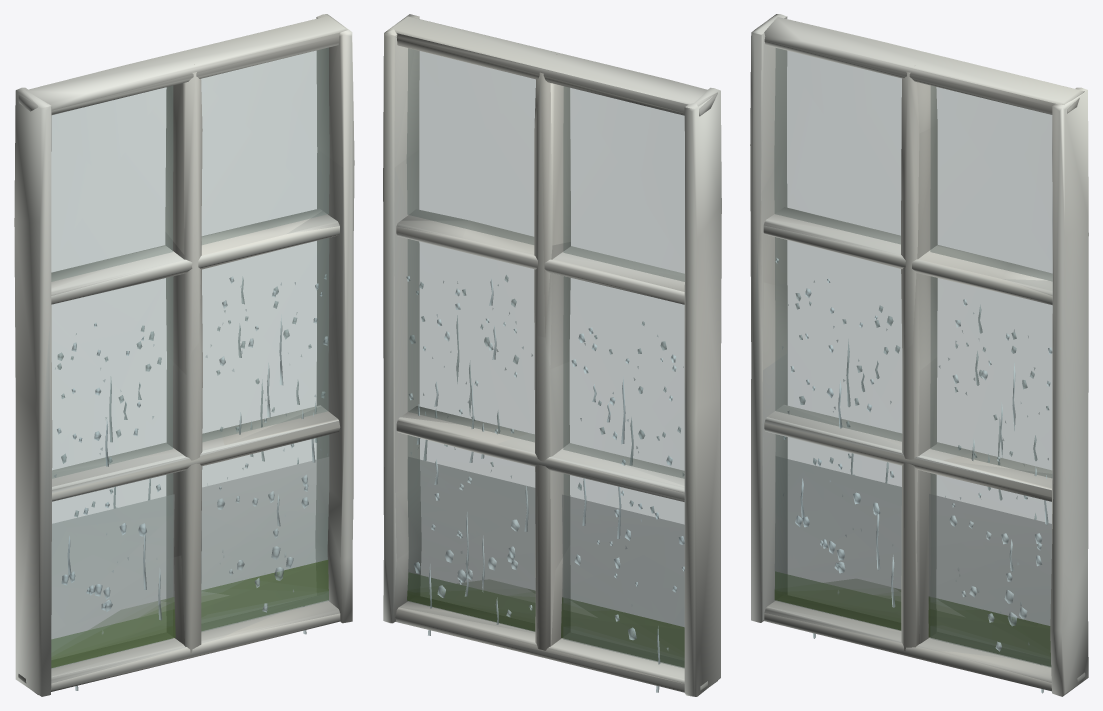
Rendered from canopy_glass_wall_lod2.glb.
3 views of the same model, side by side, from view 1: azimuth 30°, elevation 25°; view 2: azimuth 150°, elevation 25°; view 3: azimuth 330°, elevation 25° (orthographic).
Visible parts, largest first — view 1: canopy_glass_wall.001; view 2: canopy_glass_wall.001; view 3: canopy_glass_wall.001.
Part boxes in pixels (x1,y1,x2,y2): canopy_glass_wall.001: (14,14,354,696); canopy_glass_wall.001: (383,14,721,696); canopy_glass_wall.001: (750,14,1088,696).
Size of the model in its own units: 20.1 by 36.9 by 3.03.
